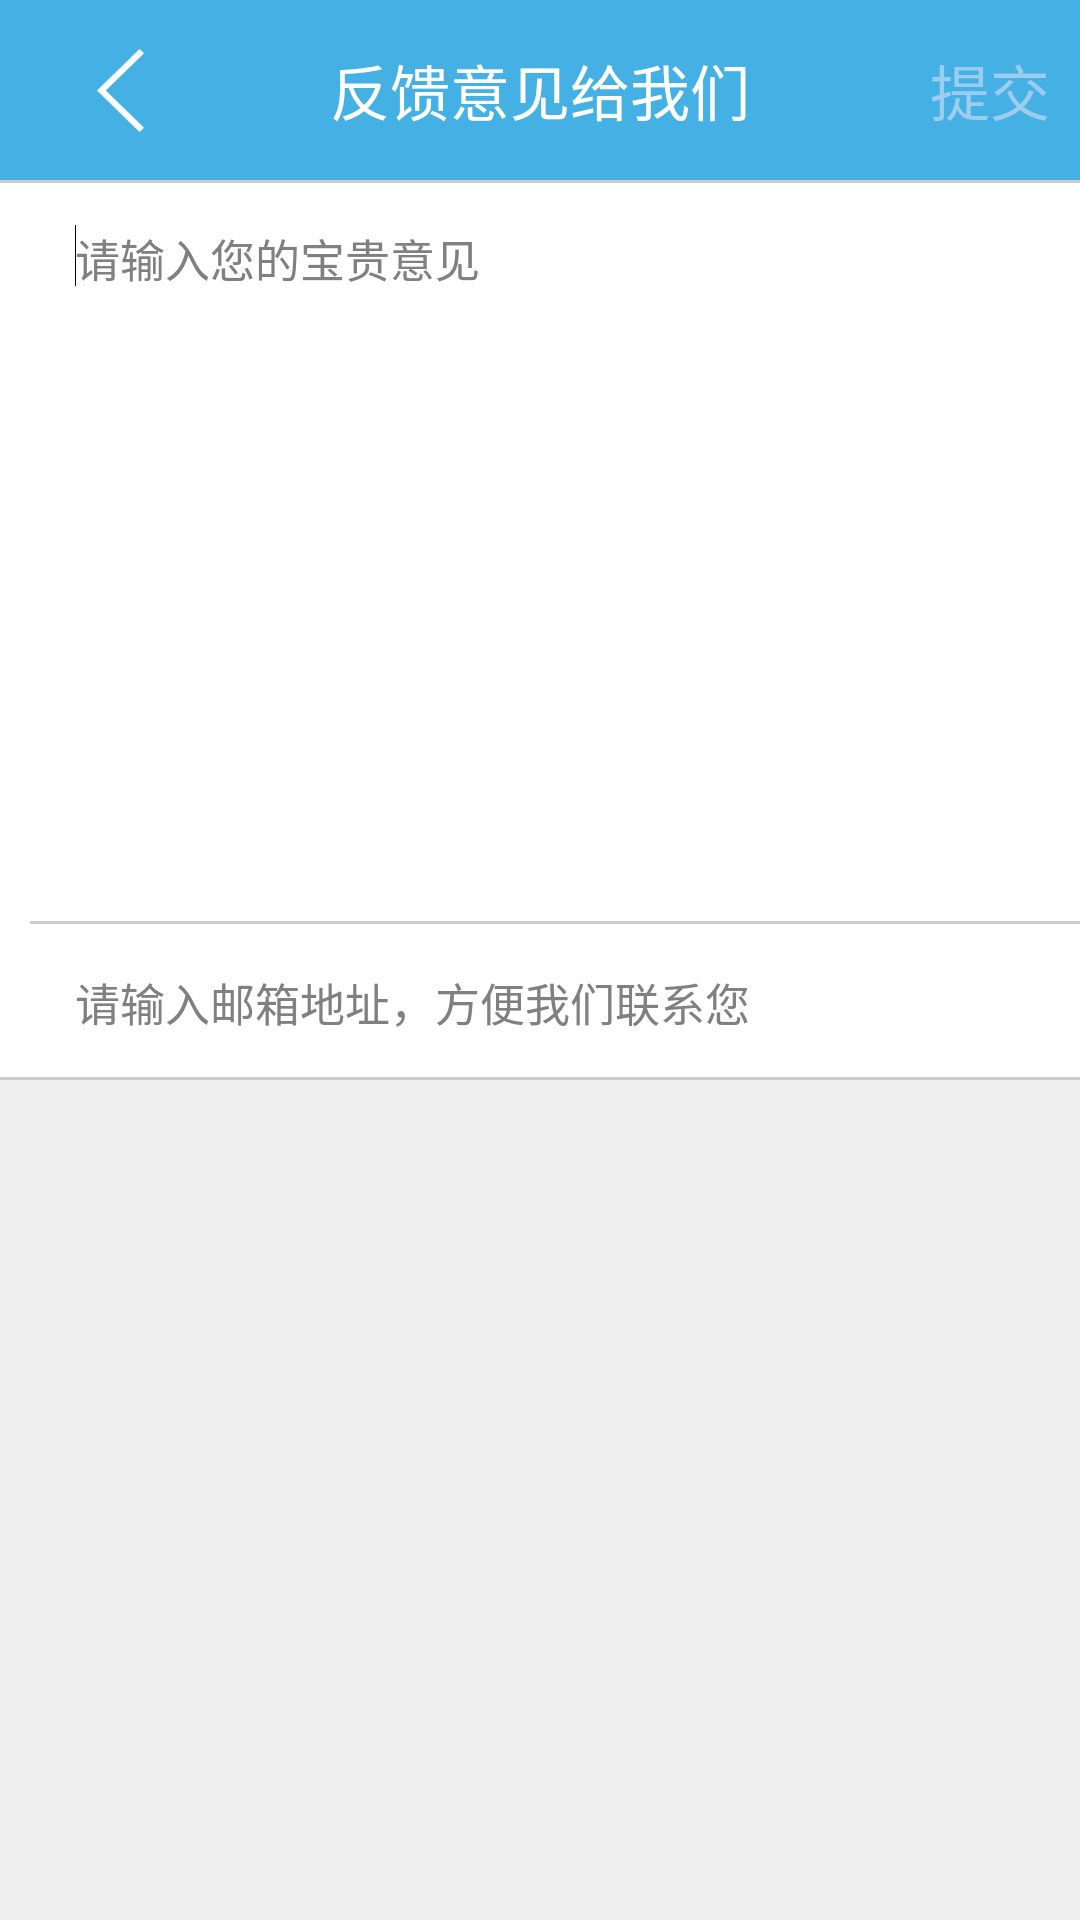

Where to tap for icons on this 1080 × 1920 app screen, as point (x, y):
back: point (120, 90)
